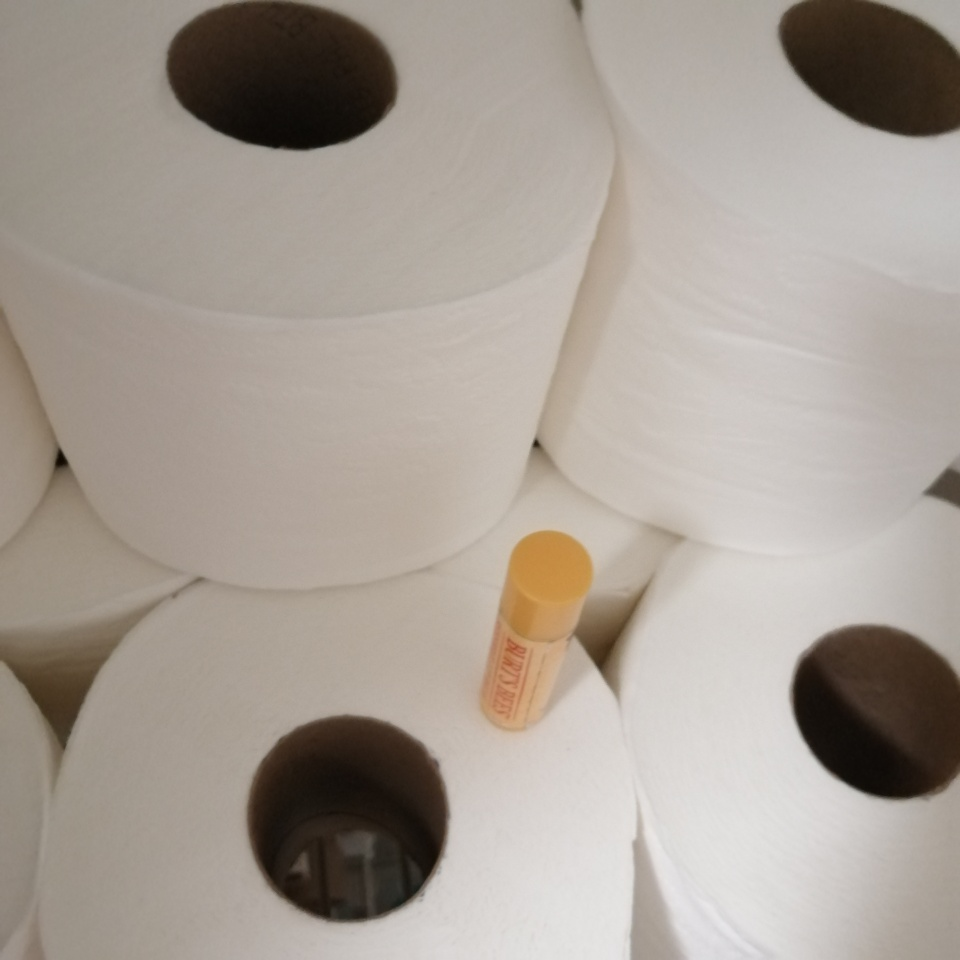chapstick: (481, 529, 594, 733)
